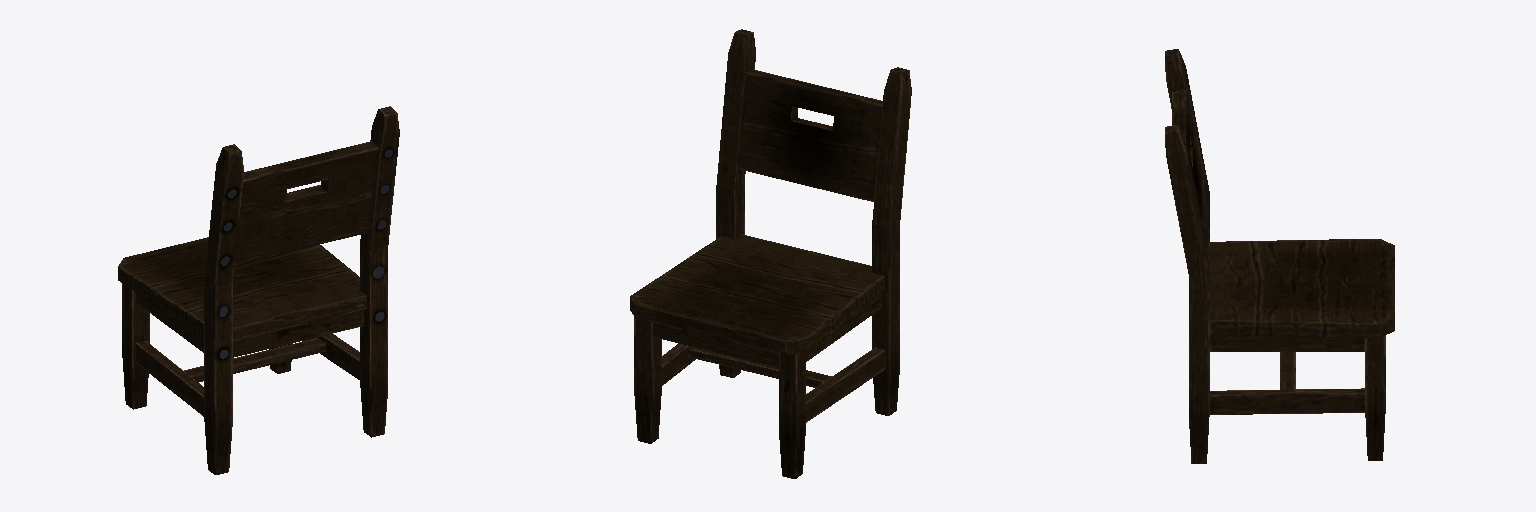
3 views of the same model, side by side, from view 1: azimuth 30°, elevation 25°; view 2: azimuth 150°, elevation 25°; view 3: azimuth 270°, elevation 25° (orthographic).
Parts seen in each view (by area): view 1: defaultMaterial.009_defaultMaterial.009_None; view 2: defaultMaterial.009_defaultMaterial.009_None; view 3: defaultMaterial.009_defaultMaterial.009_None.
Part boxes in pixels (bbox=[...]): defaultMaterial.009_defaultMaterial.009_None: bbox=[118, 106, 399, 474]; defaultMaterial.009_defaultMaterial.009_None: bbox=[630, 29, 911, 478]; defaultMaterial.009_defaultMaterial.009_None: bbox=[1165, 49, 1394, 463].
Bounding box in the file's own units: 0.7315 × 1.31 × 0.823.
Materials: 1 (1 with a texture image).